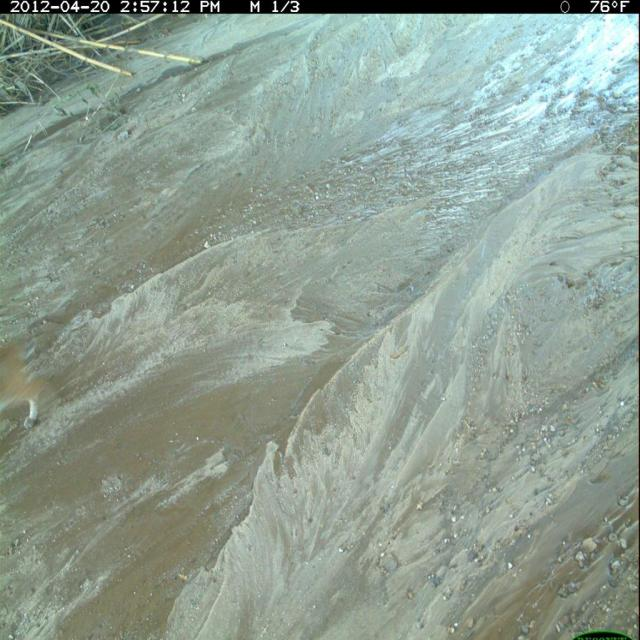bobcat: (4, 330, 46, 437)
